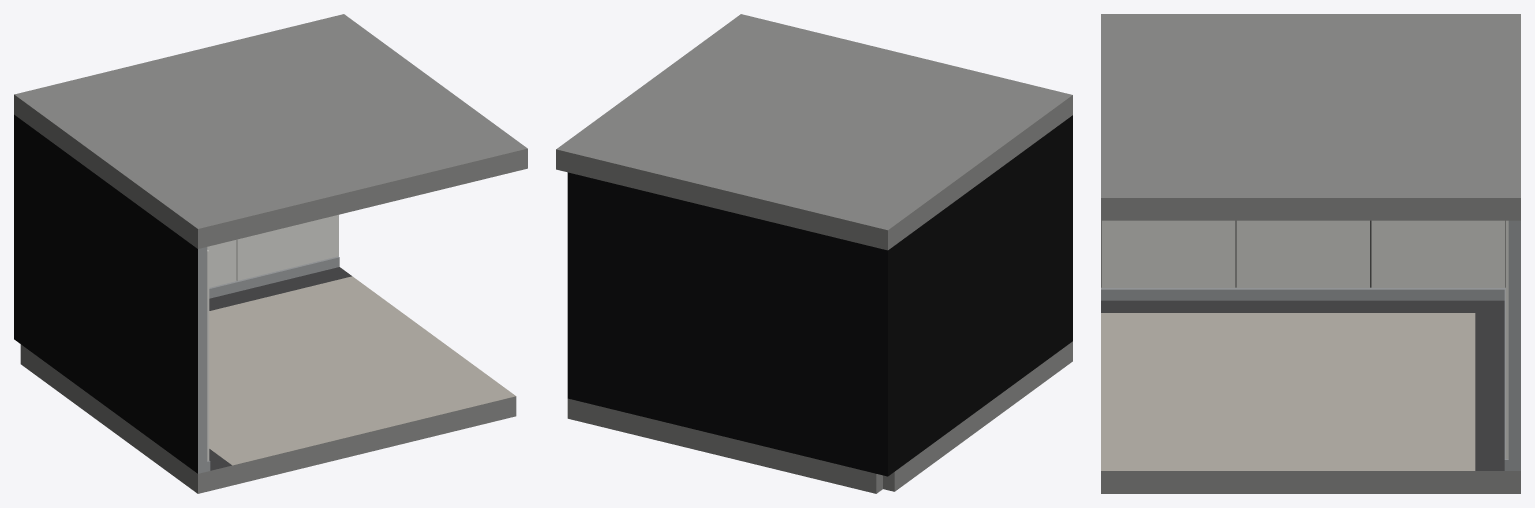
Rendered from gteki_passage_corner_w4.glb.
The picture shows the model from 3 angles, left to right: view 1: azimuth 30°, elevation 25°; view 2: azimuth 150°, elevation 25°; view 3: azimuth 270°, elevation 25°; orthographic projection. The views are drawn at different scales.
Parts seen in each view (by area): view 1: VIS_body; view 2: VIS_body; view 3: VIS_body.
Part boxes in pixels (box(x1,y1,x2,y2)): VIS_body: box(14, 14, 527, 493); VIS_body: box(556, 14, 1072, 493); VIS_body: box(1101, 14, 1520, 493).
Size of what is drawn, in the model's own units: 4.3 by 3.3 by 4.15.
1 material, 1 textured.
